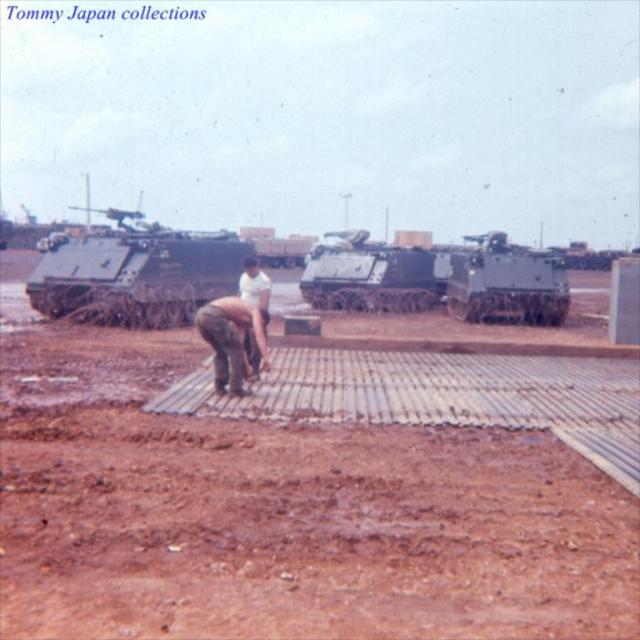tank: (25, 207, 257, 328), (300, 228, 452, 312), (444, 232, 570, 327)
